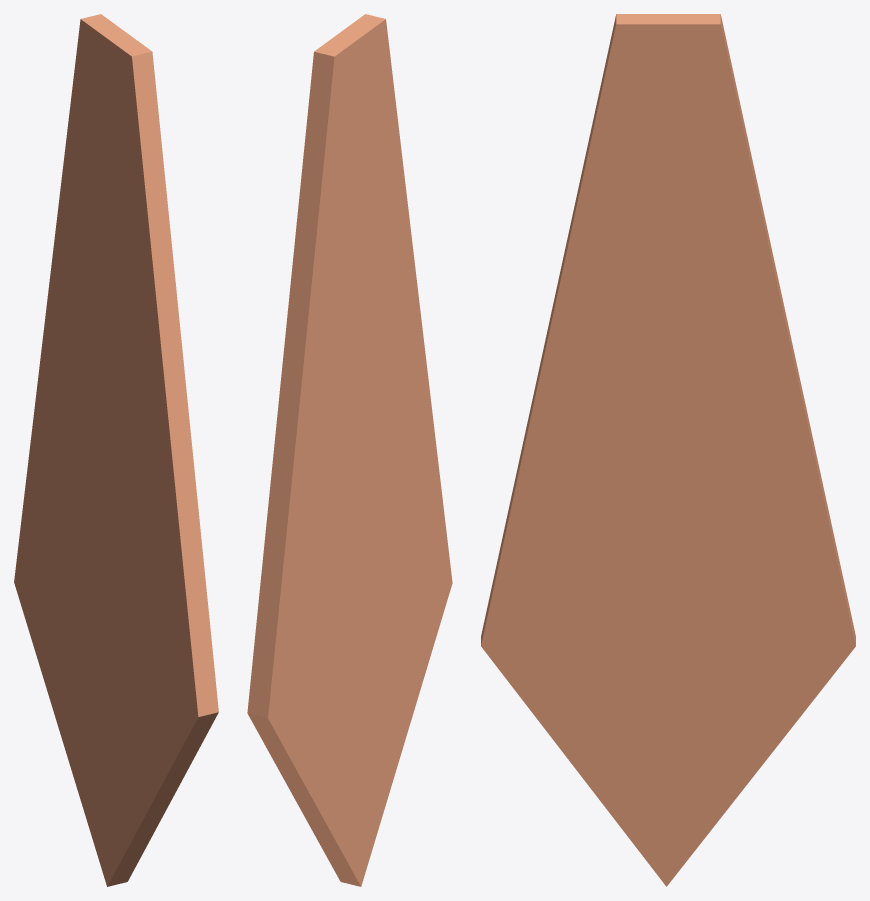
The model's file is arrow.fbx.
The picture shows the model from 3 angles, left to right: view 1: azimuth 30°, elevation 25°; view 2: azimuth 150°, elevation 25°; view 3: azimuth 270°, elevation 25°; orthographic projection.
Parts seen in each view (by area): view 1: UTM_Box; view 2: UTM_Box; view 3: UTM_Box.
Part boxes in pixels (x1=…): UTM_Box: x1=14, y1=14, x2=218, y2=886; UTM_Box: x1=247, y1=14, x2=452, y2=886; UTM_Box: x1=481, y1=14, x2=855, y2=886.
Size of the model in its own units: 2.23 by 88.05 by 34.67.
